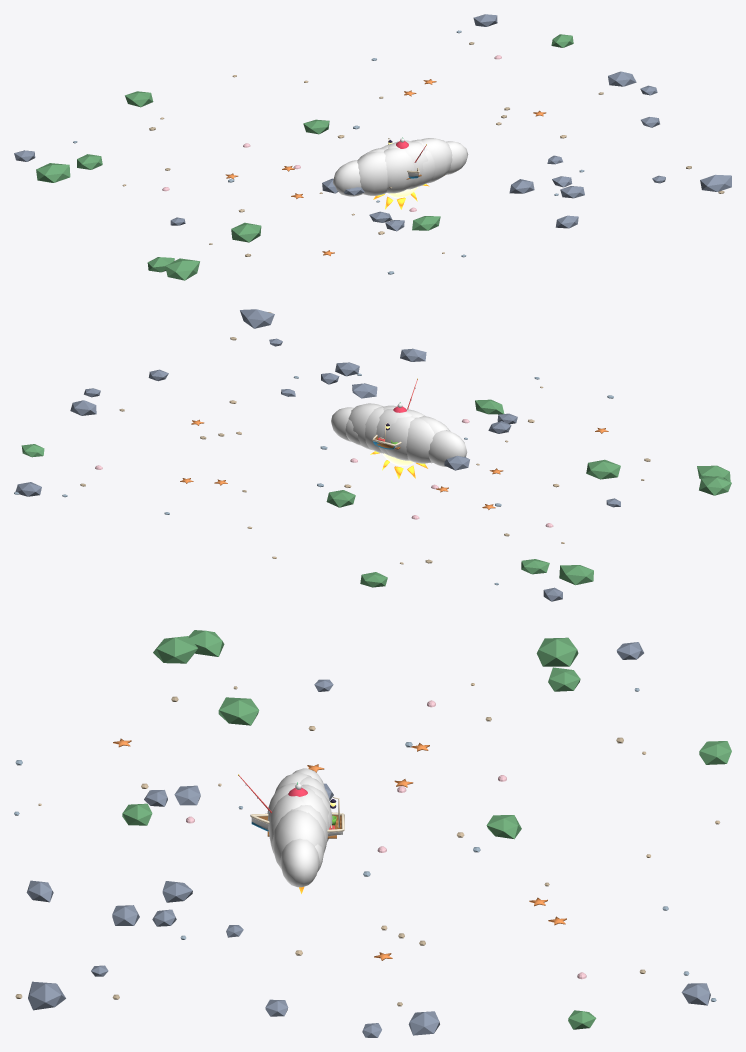
File: world.glb
3 renders of one model, top to bottom at view 1: azimuth 30°, elevation 25°; view 2: azimuth 150°, elevation 25°; view 3: azimuth 270°, elevation 25°, orthographic. The views are drawn at different scales.
Parts seen in each view (by area): view 1: lakebed_mesh, cloud_2_mesh, cloud_0_mesh; view 2: lakebed_mesh, cloud_2_mesh, cloud_1_mesh; view 3: lakebed_mesh, cloud_2_mesh, cloud_1_mesh, cloud_0_mesh, boat_mesh.
Boxes of the visible parts, x1,y1,x2,y2 form: lakebed_mesh: (14, 14, 731, 280); cloud_2_mesh: (333, 138, 468, 196); cloud_0_mesh: (384, 141, 427, 193); lakebed_mesh: (14, 309, 731, 601); cloud_2_mesh: (331, 403, 467, 466); cloud_1_mesh: (345, 406, 434, 463); lakebed_mesh: (14, 630, 731, 1037); cloud_2_mesh: (269, 768, 332, 887); cloud_1_mesh: (291, 776, 330, 871); cloud_0_mesh: (267, 783, 305, 832); boat_mesh: (250, 797, 344, 838).
Bounding box in the file's own units: 28.43 × 3.9 × 21.57.
